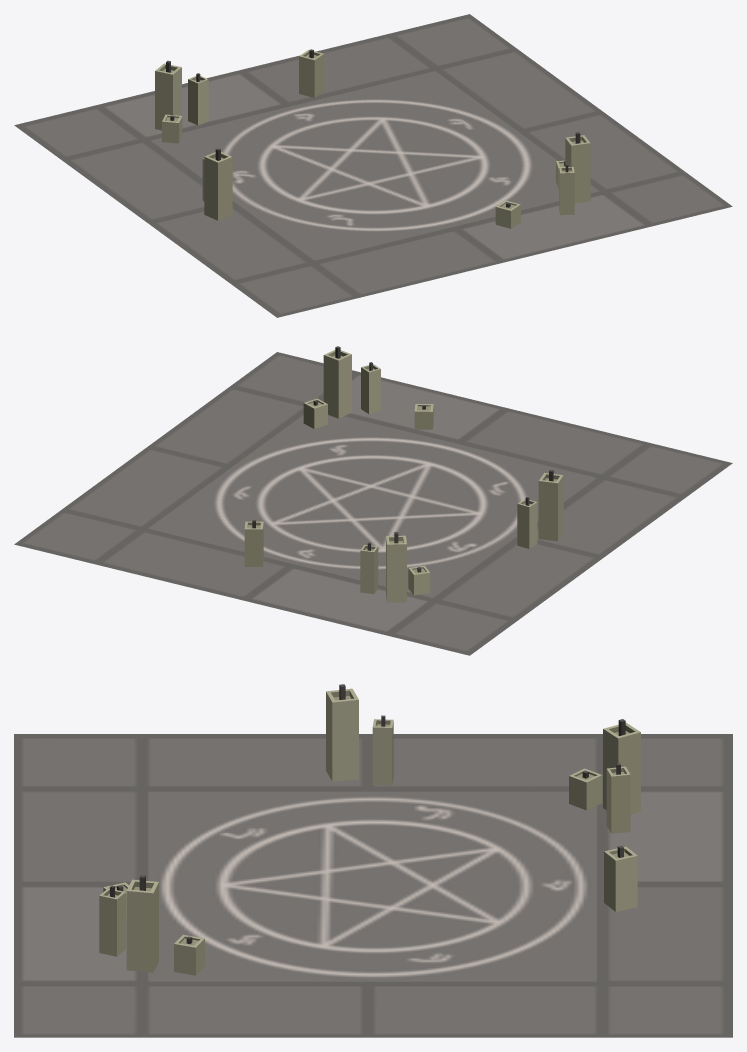
File: SD_Env_Alter_Evil_01.fbx
3 renders of one model, top to bottom at view 1: azimuth 30°, elevation 25°; view 2: azimuth 150°, elevation 25°; view 3: azimuth 270°, elevation 25°, orthographic. The views are drawn at different scales.
Visible parts, largest first — view 1: SD_Env_Alter_Evil_01; view 2: SD_Env_Alter_Evil_01; view 3: SD_Env_Alter_Evil_01.
Part boxes in pixels (<box>): SD_Env_Alter_Evil_01: <box>14,14,732,317</box>; SD_Env_Alter_Evil_01: <box>14,346,732,655</box>; SD_Env_Alter_Evil_01: <box>14,684,732,1037</box>.
Bounding box in the file's own units: 5 × 0.6864 × 5.
